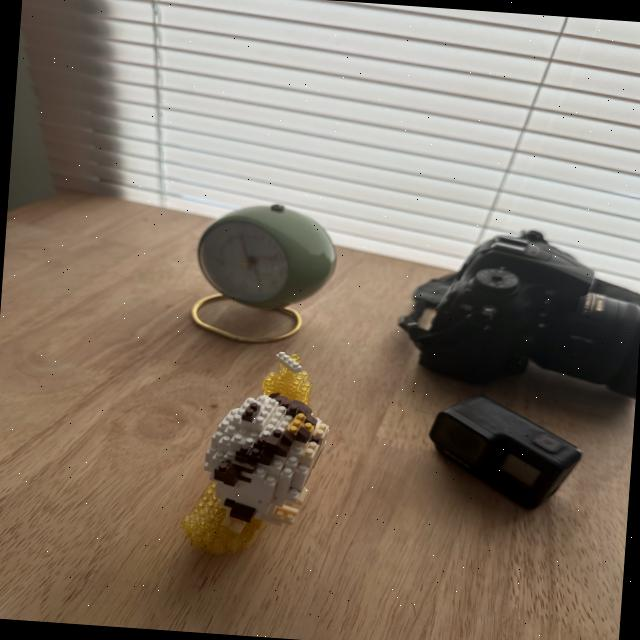actioncam: (402, 373, 604, 528)
camera: (383, 211, 640, 406)
clock: (148, 172, 380, 368)
toy: (150, 337, 371, 571)
